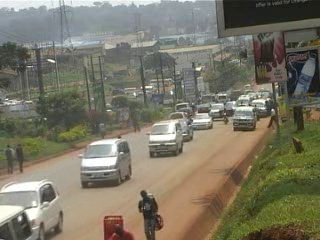Car: (0, 176, 68, 237), (77, 135, 133, 189), (141, 120, 184, 159), (166, 117, 195, 142), (190, 111, 214, 131), (166, 109, 191, 125), (208, 103, 227, 117), (175, 106, 197, 117), (195, 101, 213, 114)
Motorcycle: (221, 107, 232, 125)
